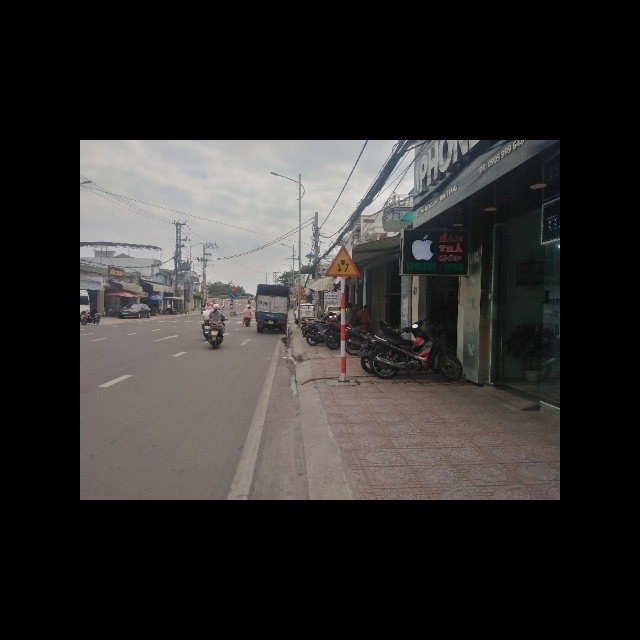Đường đôi: (324, 245, 361, 279)
